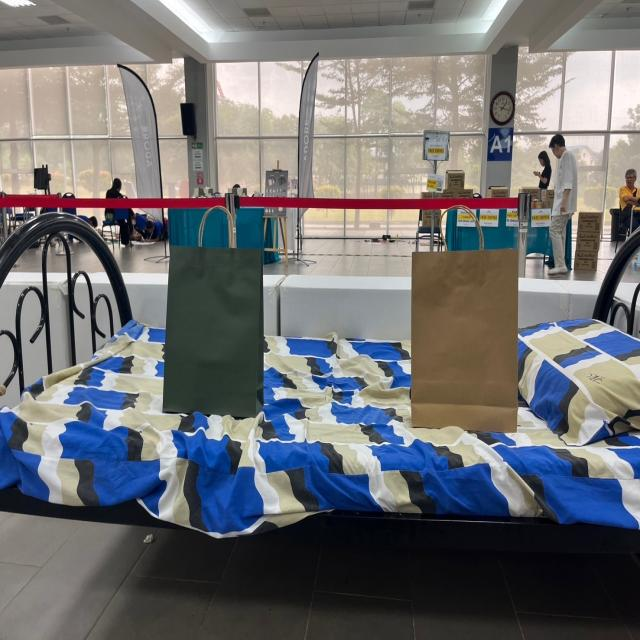bag: (414, 197, 518, 429), (177, 193, 258, 410)
